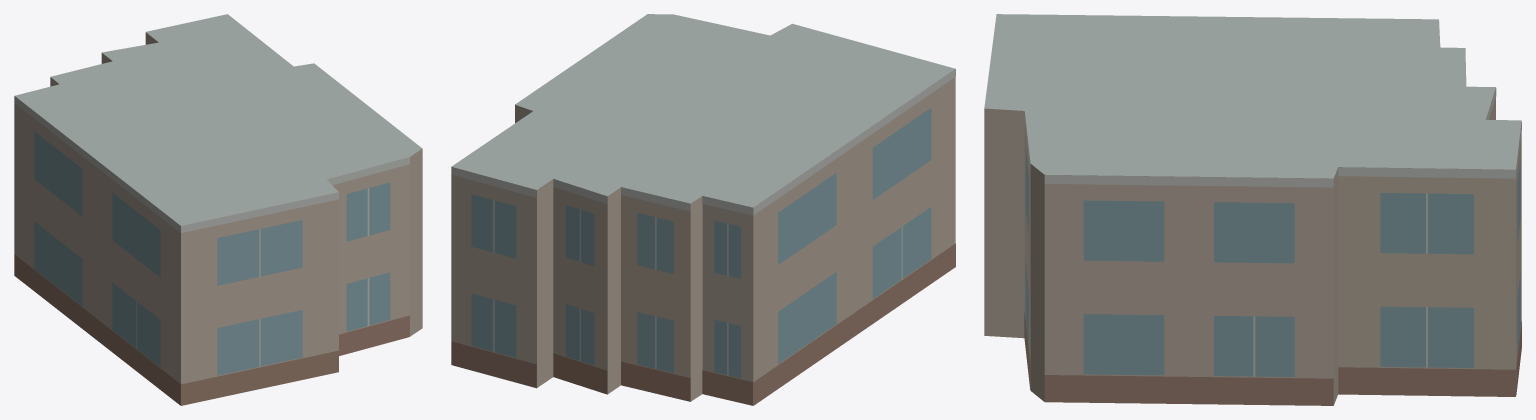
File: survey-upis-32937565.glb
3 views of the same model, side by side, from view 1: azimuth 30°, elevation 25°; view 2: azimuth 150°, elevation 25°; view 3: azimuth 270°, elevation 25° (orthographic). The views are drawn at different scales.
Visible parts, largest first — view 1: survey-upis-32937565.tmp; view 2: survey-upis-32937565.tmp; view 3: survey-upis-32937565.tmp.
Part boxes in pixels (x1=…): survey-upis-32937565.tmp: x1=14, y1=14, x2=422, y2=405; survey-upis-32937565.tmp: x1=451, y1=14, x2=955, y2=405; survey-upis-32937565.tmp: x1=984, y1=14, x2=1521, y2=405.
Size of the model in its own units: 9.48 by 6.1 by 13.08.
